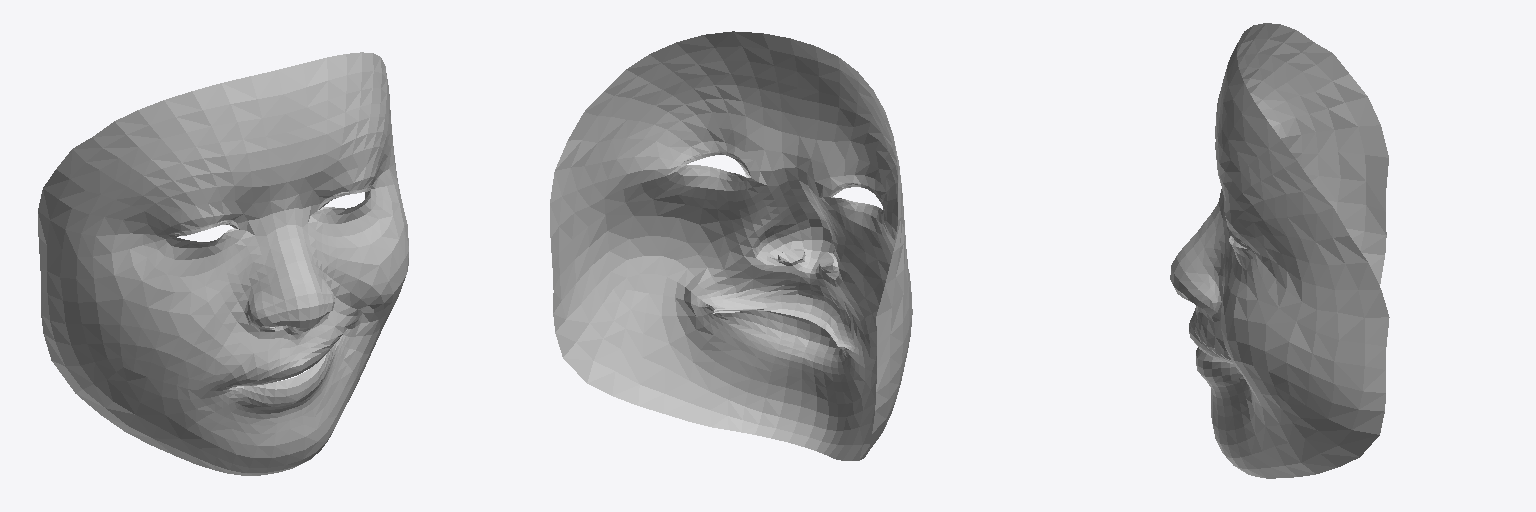
The model's file is mouthSmile_L.obj.
The picture shows the model from 3 angles: view 1: azimuth 30°, elevation 25°; view 2: azimuth 150°, elevation 25°; view 3: azimuth 270°, elevation 25°; orthographic projection.
Parts seen in each view (by area): view 1: default; view 2: default; view 3: default.
Boxes of the visible parts, x1=… form: default: x1=38, y1=52, x2=408, y2=475; default: x1=550, y1=31, x2=912, y2=460; default: x1=1170, y1=23, x2=1389, y2=478.
Size of the model in its own units: 0.1624 by 0.1853 by 0.0911.